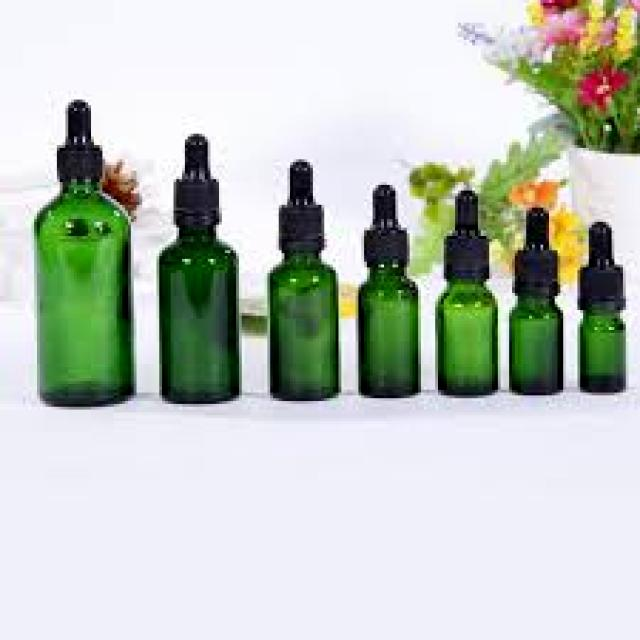Glass: (30, 98, 135, 410), (155, 132, 243, 408), (265, 155, 343, 406), (354, 181, 423, 401), (432, 184, 501, 399), (504, 203, 567, 400), (575, 218, 630, 396)
